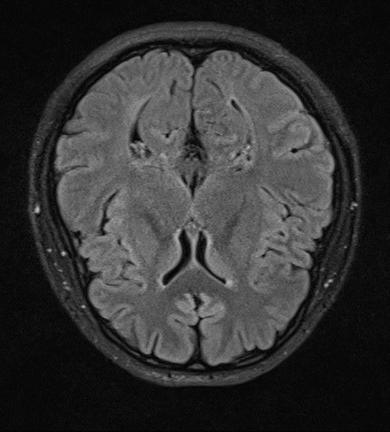Normal_Brain: (1, 1, 390, 432), (362, 356, 376, 401)
